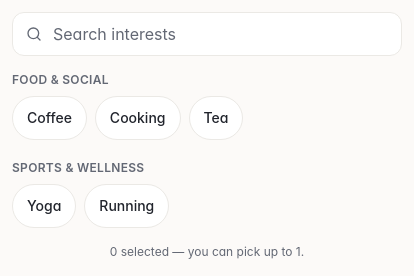
it: InterestPicker › blocks selections beyond the max instead of silently dropping them
The width and height of the screenshot is (414, 276).
Later steps or results of the test are not shown.
What coordinates should you click on to do the following:
click the button "Coffee"
I would click on:
 (49, 118)
Its box is [12,96,87,140].
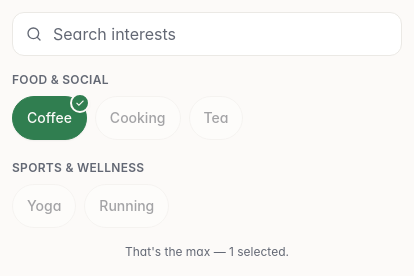
Now the button "Yoga" is disabled, box [12,184,76,228]
